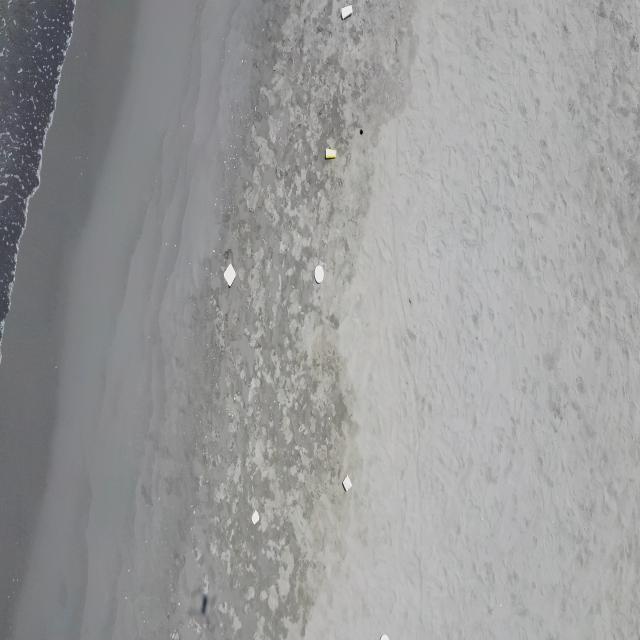take-away-containers: (223, 262, 237, 288), (342, 474, 353, 493), (314, 265, 324, 283), (251, 509, 260, 526)
takeaway-cup: (341, 4, 353, 20), (326, 147, 336, 161)
